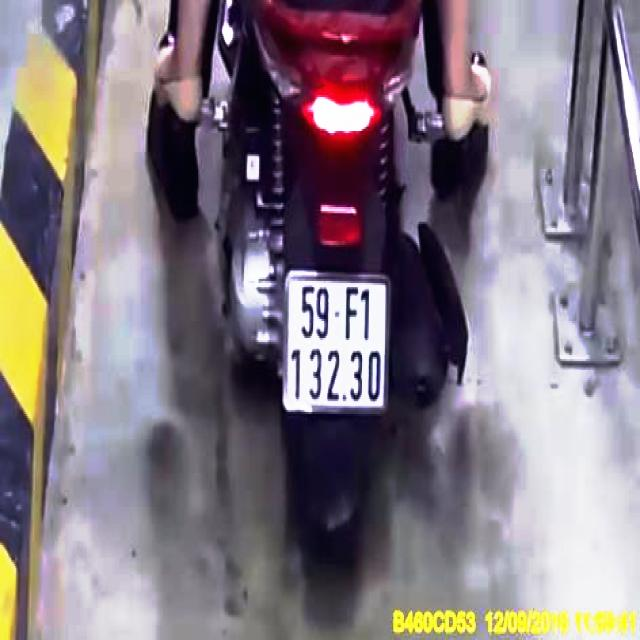license_plate: (289, 277, 388, 410)
